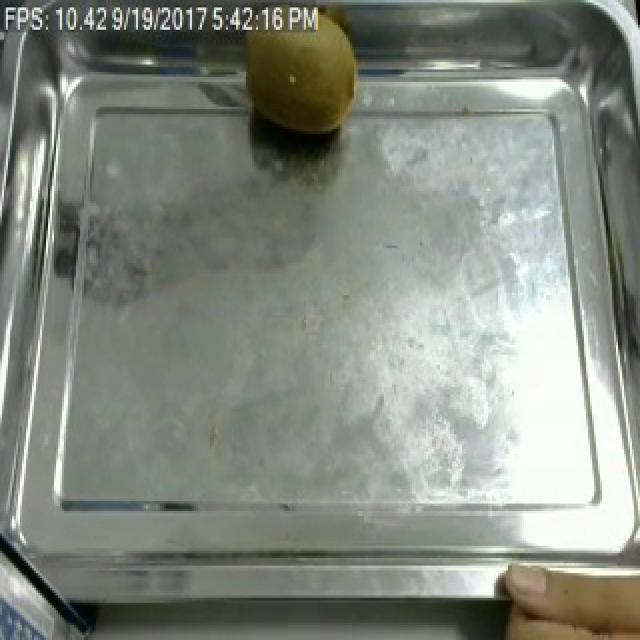Fruit: (234, 5, 368, 144)
